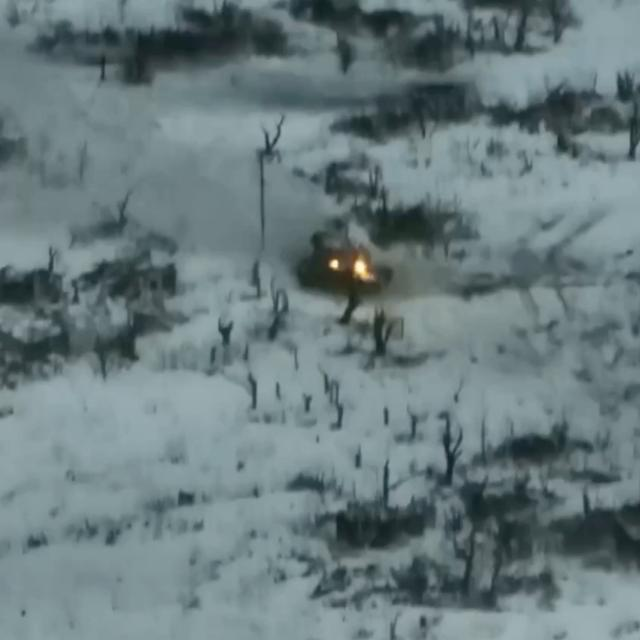vehicle: (298, 230, 394, 302)
